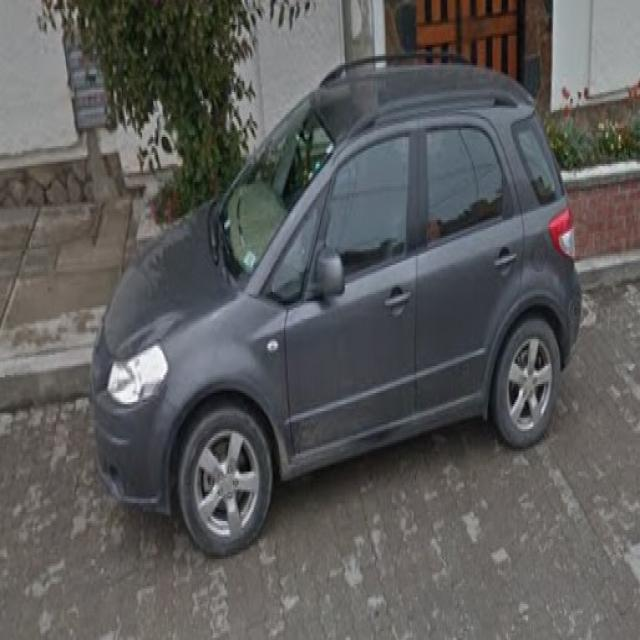cars: (95, 69, 582, 551)
